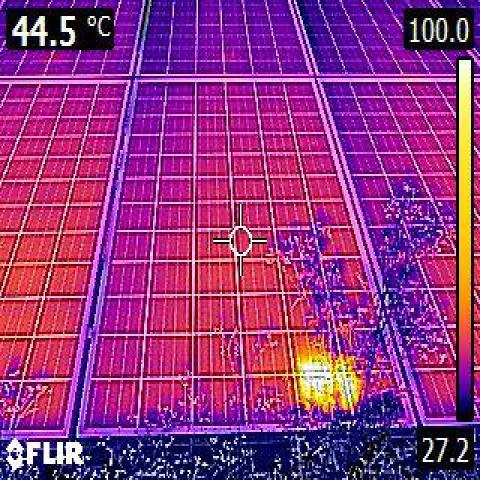fault: (302, 370, 348, 414)
